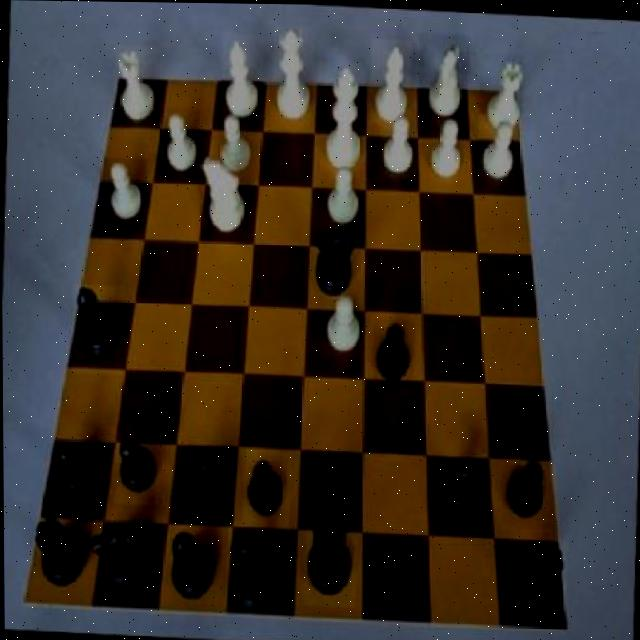bishop: (71, 284, 125, 375), (166, 522, 222, 609)
black-bishop: (303, 506, 358, 607)
black-king: (88, 513, 156, 602), (311, 221, 360, 301)
black-knight: (48, 432, 104, 505), (501, 452, 554, 526), (243, 449, 291, 525), (434, 458, 487, 521), (115, 434, 161, 504), (186, 447, 234, 514), (371, 317, 415, 387)
black-pawn: (225, 521, 288, 615)
black-queen: (29, 514, 89, 601), (512, 535, 568, 613)
black-rook: (221, 34, 265, 123), (370, 37, 413, 124)
white-bishop: (322, 61, 367, 175)
white-king: (195, 155, 251, 243), (417, 31, 470, 119)
white-knight: (321, 161, 369, 237), (101, 156, 147, 232), (478, 113, 520, 191), (325, 287, 367, 363), (215, 110, 258, 183), (423, 117, 467, 185), (160, 107, 201, 175), (380, 110, 420, 177)
white-pawn: (271, 23, 315, 130)
white-queen: (113, 44, 159, 129), (479, 52, 525, 135)
